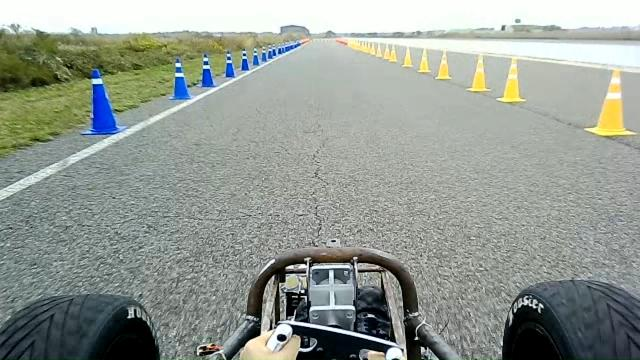blue cone: (80, 68, 127, 135), (169, 57, 191, 100), (196, 52, 218, 88), (223, 49, 236, 78), (240, 48, 250, 71), (252, 47, 260, 66), (260, 45, 268, 63)
yellow cone: (584, 68, 636, 136), (496, 57, 526, 103), (466, 53, 491, 92), (434, 49, 452, 80), (417, 46, 431, 72), (402, 46, 413, 68), (388, 45, 398, 62), (383, 44, 390, 59), (375, 43, 382, 58), (369, 44, 375, 55)
